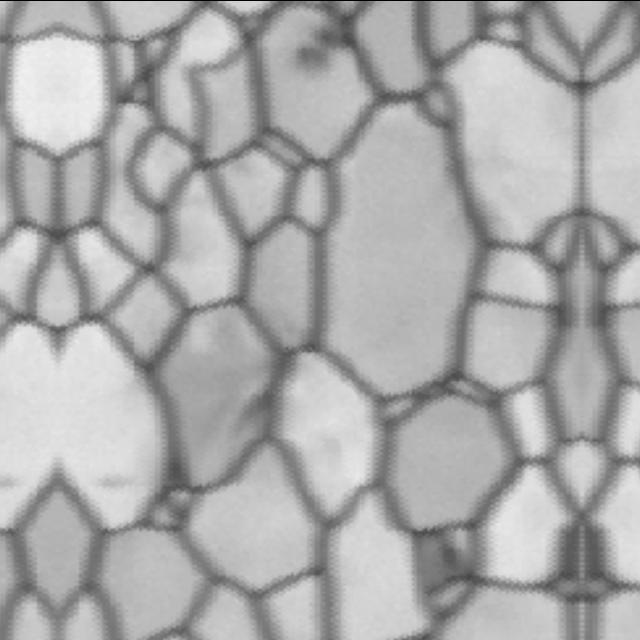good_void: (229, 371, 292, 447), (286, 22, 359, 79), (89, 465, 137, 494), (307, 431, 343, 458), (0, 465, 25, 493)
